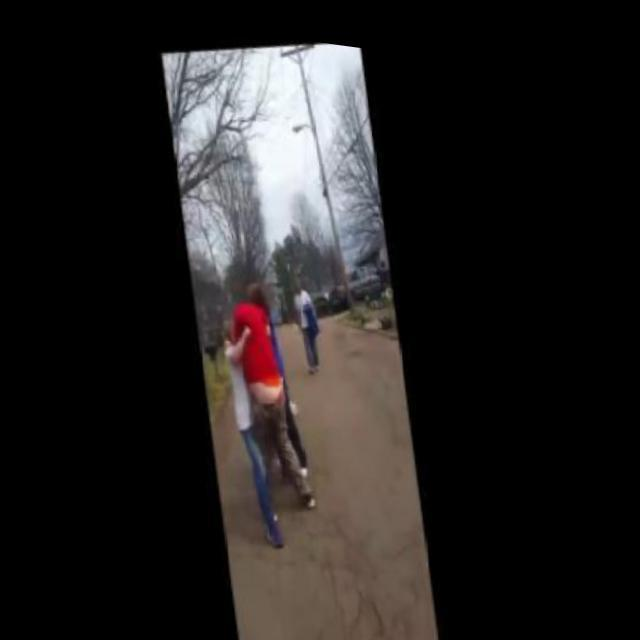fight: (208, 272, 344, 554)
